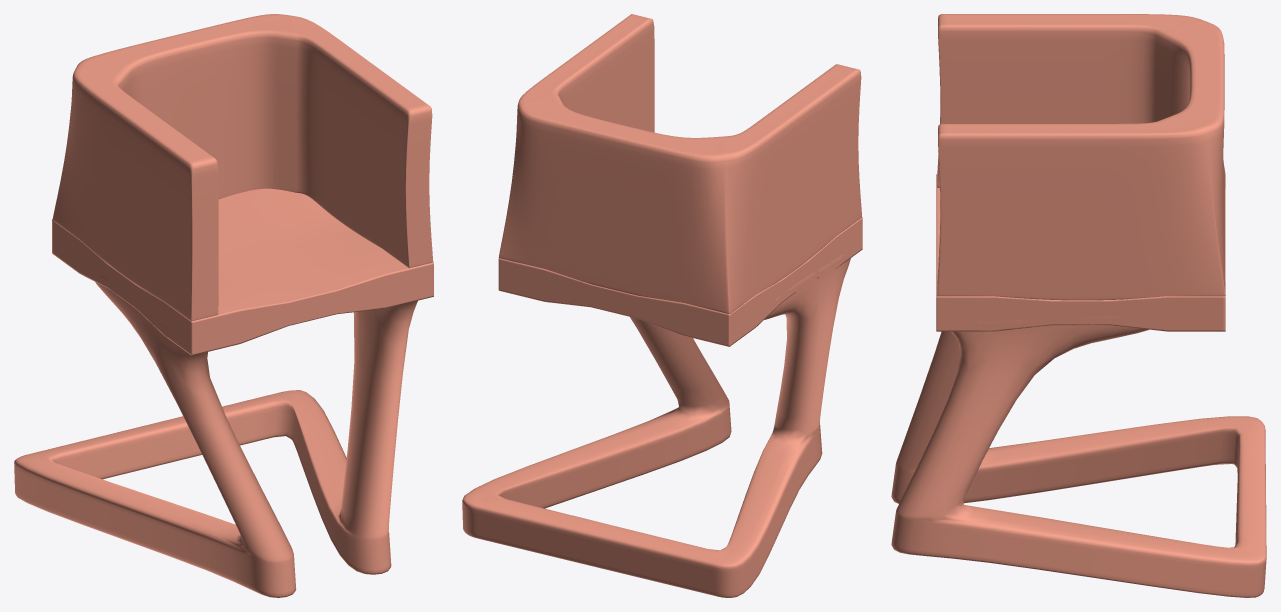
3 renders of one model, left to right at view 1: azimuth 30°, elevation 25°; view 2: azimuth 150°, elevation 25°; view 3: azimuth 270°, elevation 25°, orthographic. The views are drawn at different scales.
Parts seen in each view (by area): view 1: Object_2; view 2: Object_2; view 3: Object_2.
Boxes of the visible parts, <box> form: Object_2: <box>14,14,433,597</box>; Object_2: <box>462,14,862,597</box>; Object_2: <box>891,14,1266,597</box>.
Size of the model in its own units: 1.11 by 1.59 by 1.2.
